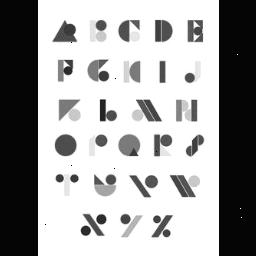i: (156, 58, 168, 86)
